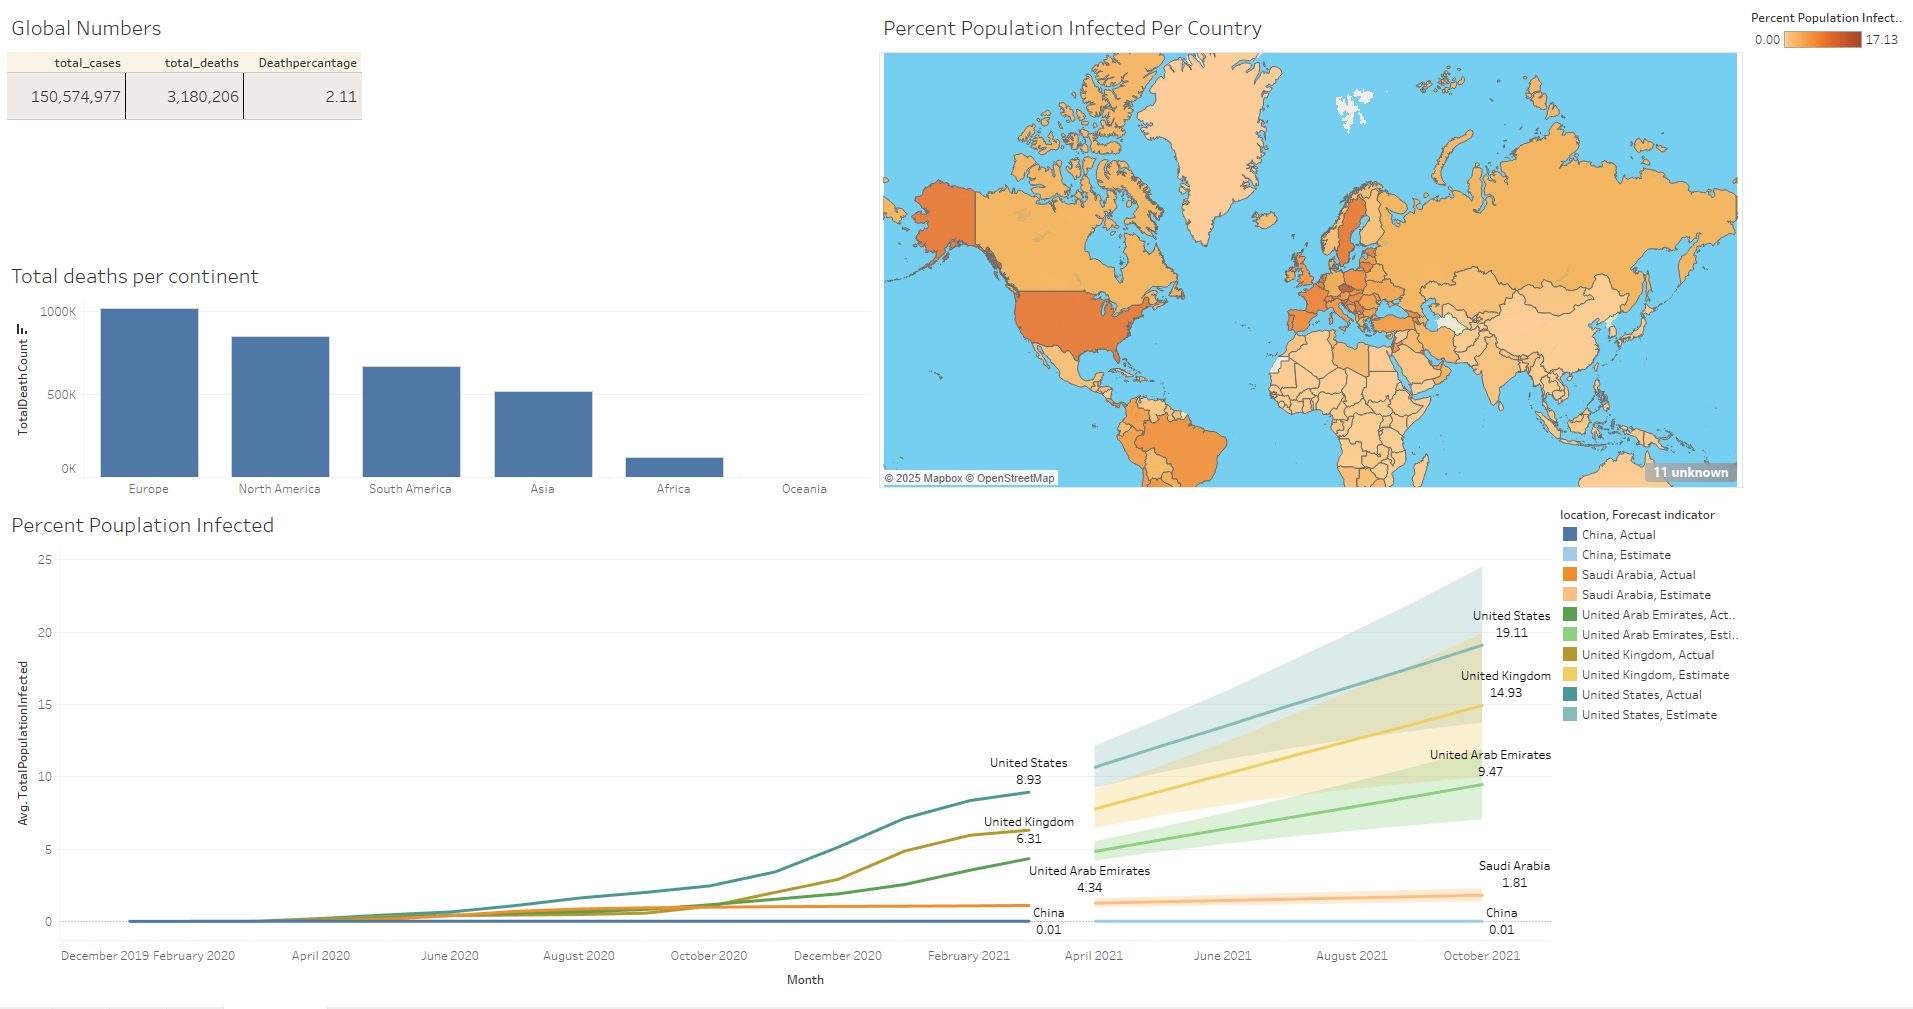

What the dashboard file says about the page in this screenshot:
{"tool":"tableau","page":{"name":"Dashboard 1","canvas":[1000,1000],"units":"permille","ordinal":0},"visuals":[{"type":"worksheet","title":"Sheet 1","mark":"Automatic","box":[4.7,9.3,448.5,245.3]},{"type":"worksheet","title":"Sheet 3","mark":"Automatic","box":[453.2,9.3,448.6,490.7]},{"type":"legend","title":"Sheet 3","param":"[federated.0v5lg3817bku731391w660ok913w].[sum:TotalPopulationInfected:qk]","box":[901.7,9.3,93.6,75.9]},{"type":"worksheet","title":"Sheet 2","mark":"Automatic","rows":["TotalDeathCount"],"cols":["continent"],"box":[4.7,254.6,448.5,245.4]},{"type":"worksheet","title":"Sheet 4","mark":"Automatic","rows":["TotalPopulationInfected"],"cols":["date"],"box":[4.7,500,798.7,490.7]},{"type":"legend","title":"Sheet 4","param":"[federated.1cgyd8703tmmlr15k77cc0q6y1zd].[none:location:nk]\n[federated.1cgyd8703","box":[803.4,500,98.4,490.7]}]}

Visuals, with their boxes on the dashboard's canvas, which has no fixed pixel size, in thousandths of its width and height (x1, y1, x2, y2). These are canvas units, not pixel positions in the 1913x1009 screenshot, which may show the page scaled, cropped or inside an application window:
"Sheet 1" worksheet: <region>5, 9, 453, 255</region>
"Sheet 3" worksheet: <region>453, 9, 902, 500</region>
"Sheet 3" legend: <region>902, 9, 995, 85</region>
"Sheet 2" worksheet: <region>5, 255, 453, 500</region>
"Sheet 4" worksheet: <region>5, 500, 803, 991</region>
"Sheet 4" legend: <region>803, 500, 902, 991</region>
